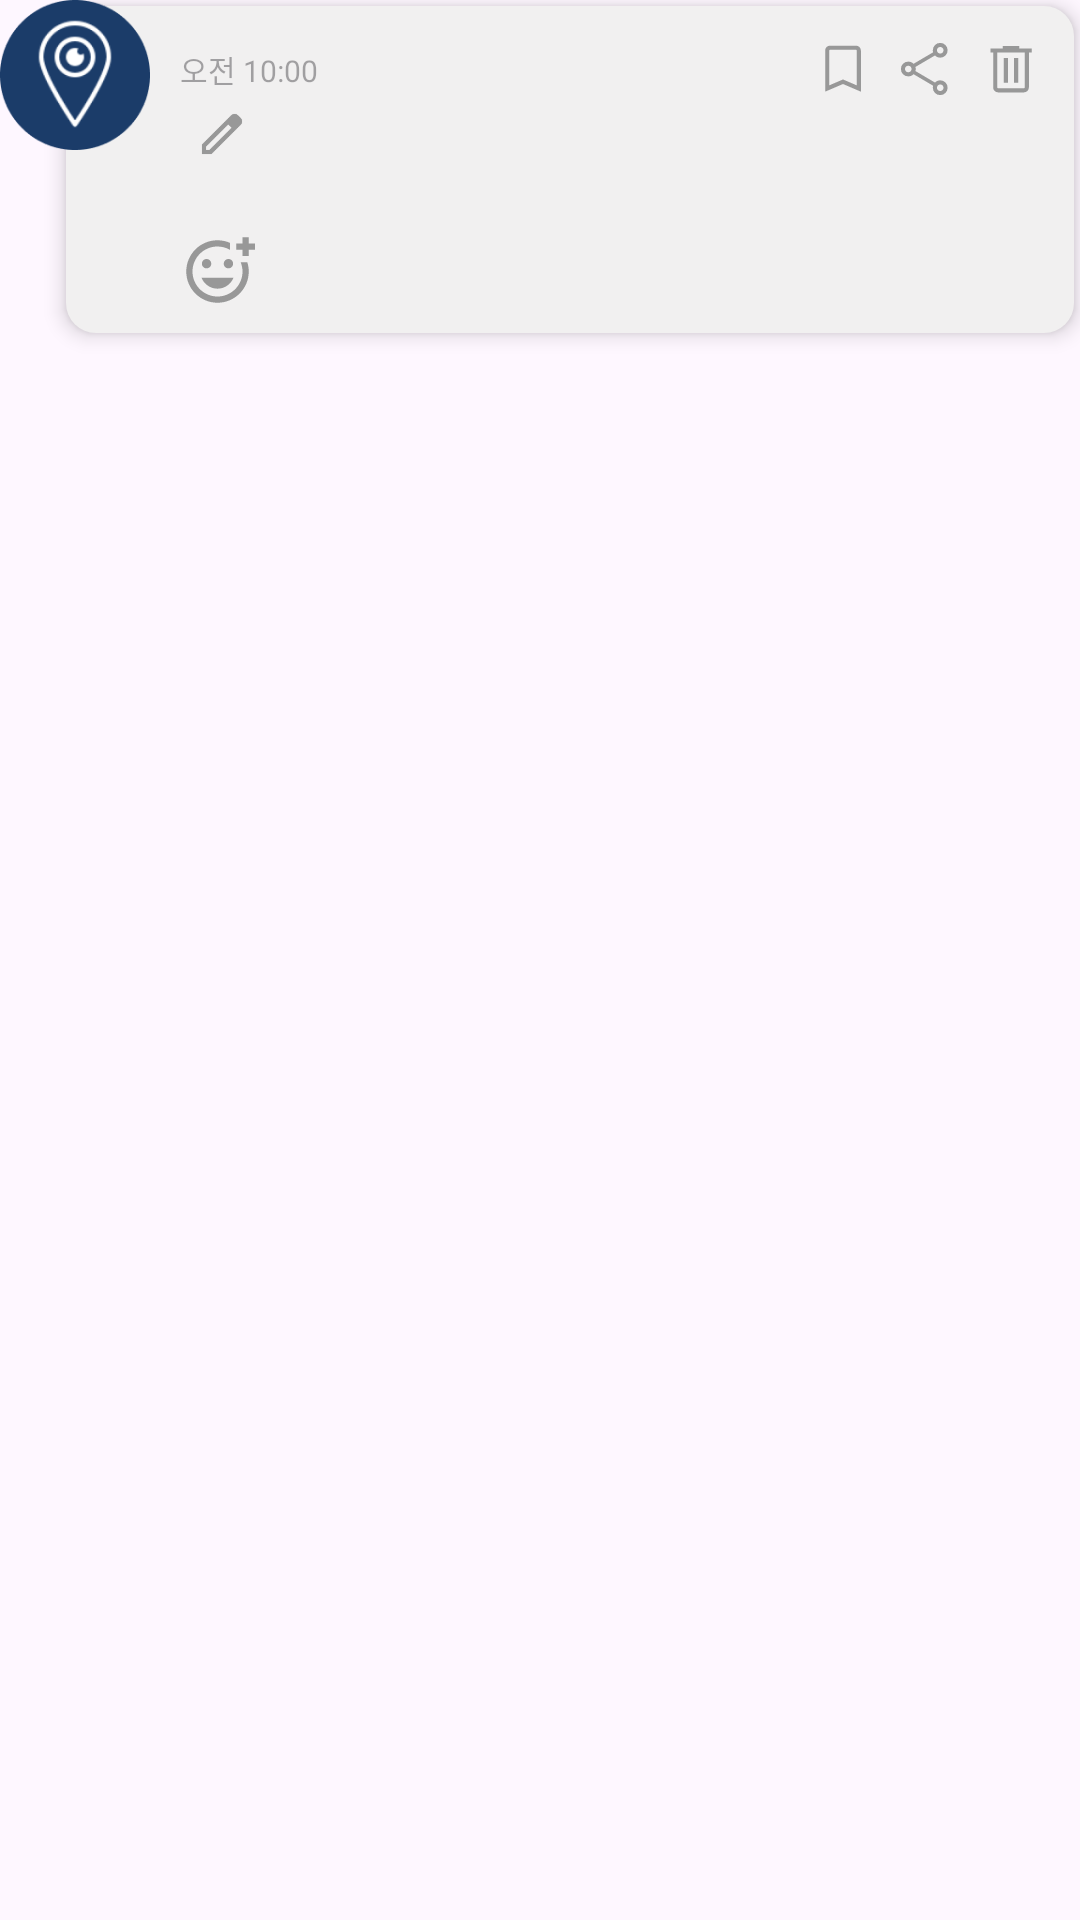

Icons on this 1080 × 1920 Android screen, each with its box as (x1, y1, x2, y2):
add reaction: (186, 237, 255, 303)
bookmark: (825, 46, 861, 92)
delete: (990, 46, 1032, 93)
edit location name: (202, 114, 242, 154)
marker: (0, 0, 150, 150)
share: (901, 43, 948, 95)
